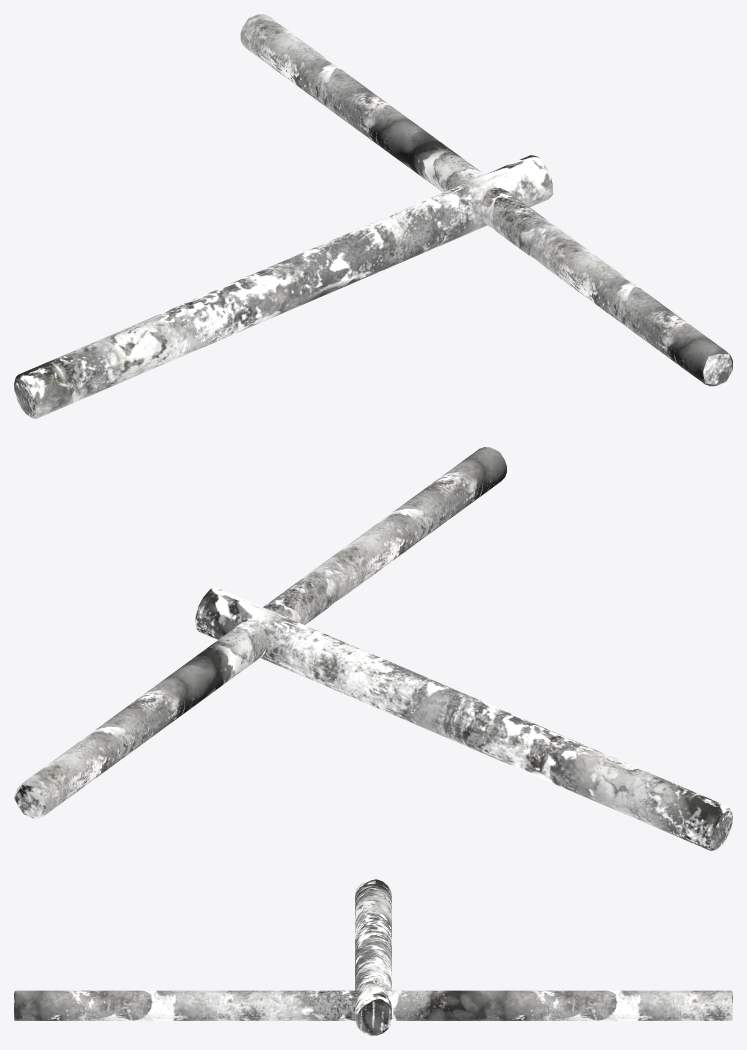
Rendered from SM_water_wheel_part_03.fbx.
3 views of the same model, one above another, from view 1: azimuth 30°, elevation 25°; view 2: azimuth 150°, elevation 25°; view 3: azimuth 270°, elevation 25° (orthographic). The views are drawn at different scales.
Parts seen in each view (by area): view 1: SM_water_wheel_part_03_LOD0; view 2: SM_water_wheel_part_03_LOD0; view 3: SM_water_wheel_part_03_LOD0.
Boxes of the visible parts, x1,y1,x2,y2 form: SM_water_wheel_part_03_LOD0: [14, 14, 732, 418]; SM_water_wheel_part_03_LOD0: [14, 447, 732, 850]; SM_water_wheel_part_03_LOD0: [14, 879, 732, 1035].
Size of the model in its own units: 202 by 309 by 50.44.
Materials: 1 (1 with a texture image).
